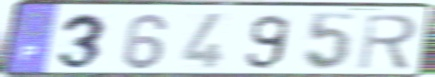3: (54, 10, 113, 72)
4: (179, 10, 229, 73)
5: (304, 11, 357, 73)
6: (120, 11, 169, 71)
9: (242, 13, 291, 70)
R: (355, 12, 420, 72)
